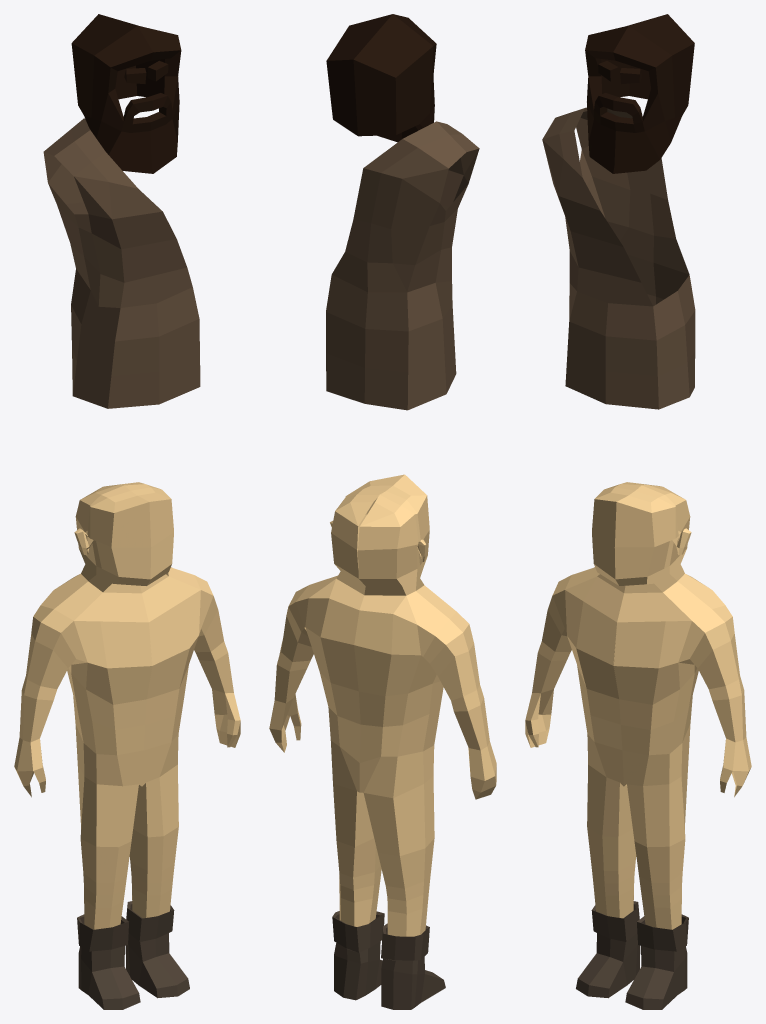
File: Brother.fbx
3 renders of one model, left to right at view 1: azimuth 30°, elevation 25°; view 2: azimuth 150°, elevation 25°; view 3: azimuth 330°, elevation 25°, orthographic.
Parts seen in each view (by area): view 1: Base Model, Rope, Hair, Boots; view 2: Base Model, Rope, Hair, Boots; view 3: Base Model, Rope, Hair, Boots.
Part boxes in pixels (<box>): Base Model: <box>14,482,240,929</box>; Rope: <box>43,118,200,408</box>; Hair: <box>71,14,181,173</box>; Boots: <box>77,901,189,1009</box>; Base Model: <box>269,474,496,936</box>; Rope: <box>326,121,479,410</box>; Hair: <box>326,14,436,142</box>; Boots: <box>332,911,445,1009</box>; Base Model: <box>525,482,751,929</box>; Rope: <box>542,107,695,409</box>; Hair: <box>585,14,694,173</box>; Boots: <box>576,901,688,1009</box>.
Bounding box in the file's own units: 86.83 × 361 × 44.57.
